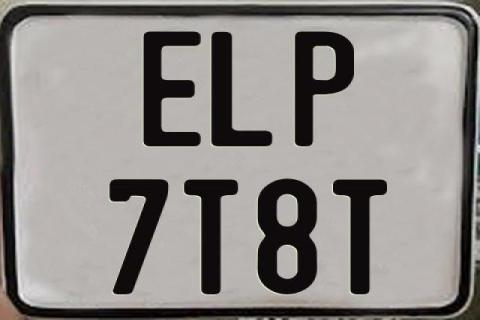0: (254, 178, 319, 294), (108, 178, 169, 296)
E: (140, 30, 200, 148)
L: (210, 30, 271, 148)
P: (293, 31, 358, 147)
T: (184, 178, 241, 294), (330, 178, 384, 294)
